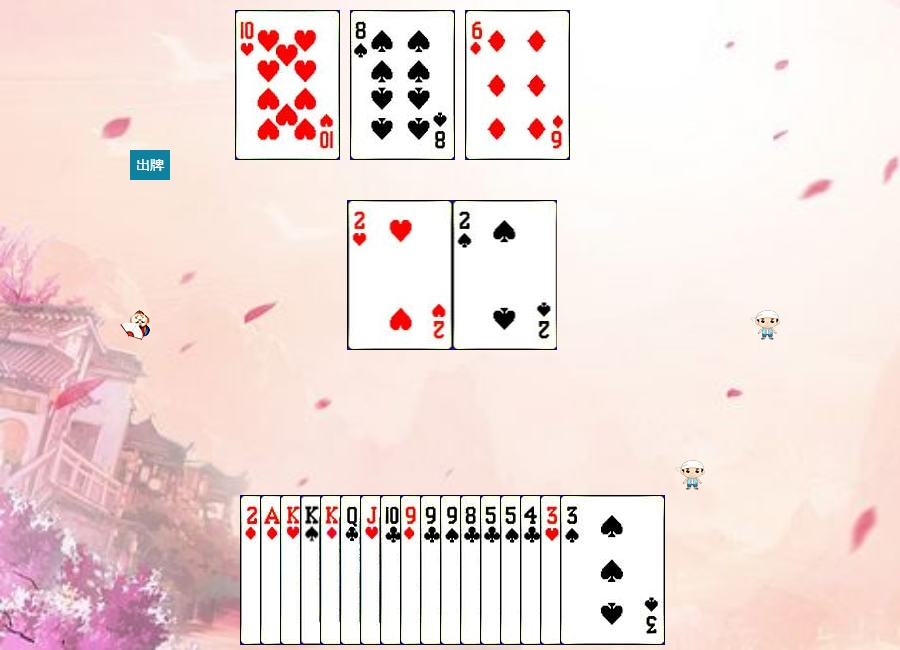10~2: (380, 495, 485, 645)
10~3: (235, 10, 340, 160)
11~3: (360, 495, 465, 645)
12~2: (340, 495, 445, 645)
13~1: (320, 495, 425, 645)
13~3: (280, 495, 385, 645)
13~4: (300, 495, 405, 645)
14~1: (260, 495, 365, 645)
15~1: (240, 495, 345, 645)
15~3: (348, 200, 453, 350)
15~4: (453, 200, 558, 350)
3~3: (540, 495, 645, 645)
3~4: (560, 495, 665, 645)
4~2: (520, 495, 625, 645)
5~2: (480, 495, 585, 645)
5~4: (500, 495, 605, 645)
6~1: (465, 10, 570, 160)
8~2: (460, 495, 565, 645)
8~4: (350, 10, 455, 160)
9~1: (400, 495, 505, 645)
9~2: (420, 495, 525, 645)
9~4: (440, 495, 545, 645)
